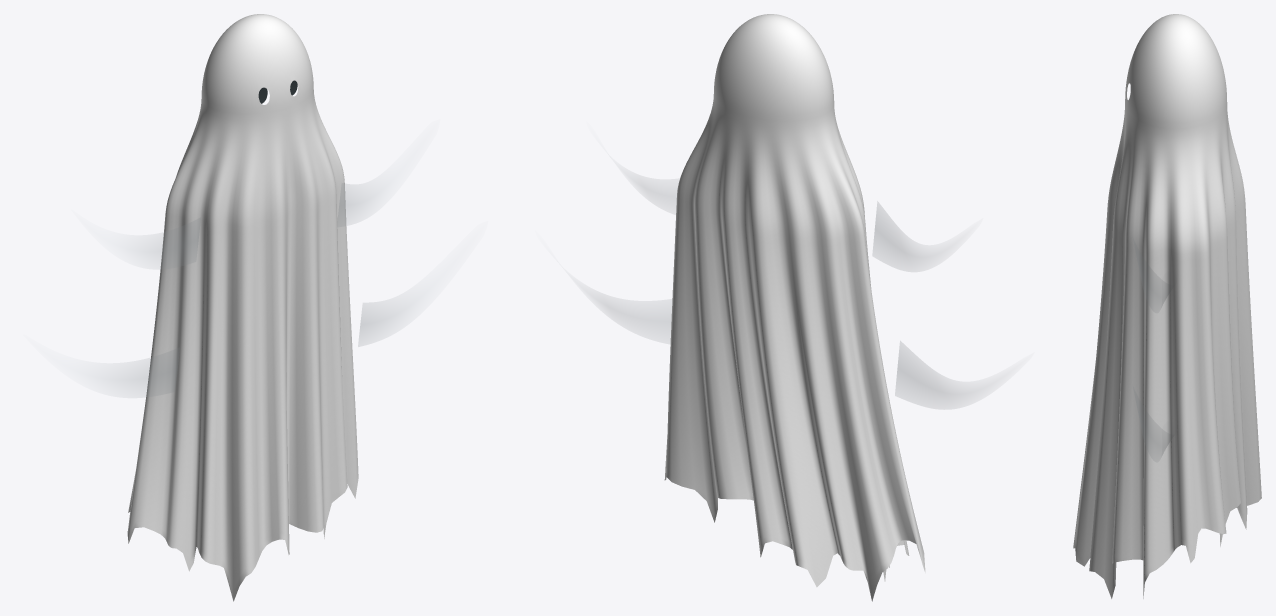
File: momo.glb
The picture shows the model from 3 angles, left to right: view 1: azimuth 30°, elevation 25°; view 2: azimuth 150°, elevation 25°; view 3: azimuth 270°, elevation 25°; orthographic projection. The views are drawn at different scales.
Parts seen in each view (by area): view 1: Cinematic_Momo_Shroud; view 2: Cinematic_Momo_Shroud; view 3: Cinematic_Momo_Shroud.
Boxes of the visible parts, left/top/right/bottom form: Cinematic_Momo_Shroud: left=70, top=14, right=440, bottom=601; Cinematic_Momo_Shroud: left=586, top=14, right=983, bottom=601; Cinematic_Momo_Shroud: left=1073, top=14, right=1261, bottom=598.
Bounding box in the file's own units: 2.04 × 2.21 × 0.6363.
Materials: 3 (1 with a texture image).
